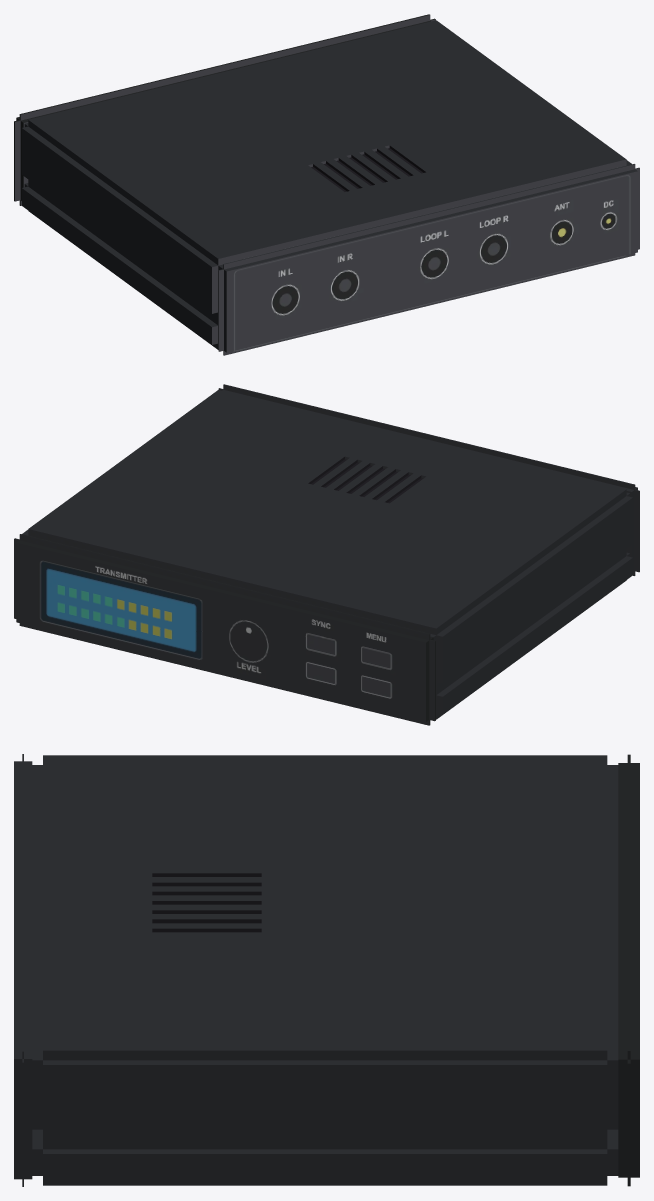
Rendered from shure-psm-300.glb.
3 views of the same model, one above another, from view 1: azimuth 30°, elevation 25°; view 2: azimuth 150°, elevation 25°; view 3: azimuth 270°, elevation 25° (orthographic). The views are drawn at different scales.
Visible parts, largest first — view 1: shure-psm-300-body; view 2: shure-psm-300-body; view 3: shure-psm-300-body.
Boxes of the visible parts, left/top/right/bottom form: shure-psm-300-body: left=14, top=14, right=639, bottom=355; shure-psm-300-body: left=14, top=384, right=639, bottom=725; shure-psm-300-body: left=14, top=754, right=639, bottom=1186.
Bounding box in the file's own units: 0.198 × 0.043 × 0.172.
Materials: 1 (1 with a texture image).
